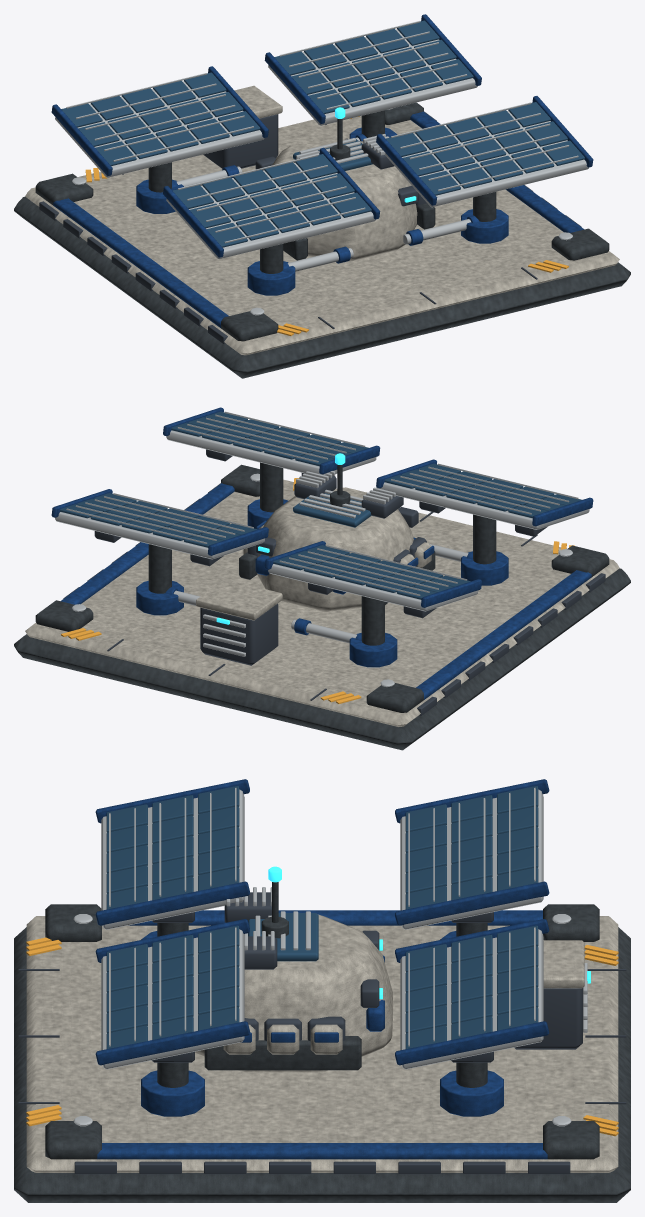
The model's file is solis_centrale_solaire.gltf.
3 views of the same model, one above another, from view 1: azimuth 30°, elevation 25°; view 2: azimuth 150°, elevation 25°; view 3: azimuth 270°, elevation 25° (orthographic). The views are drawn at different scales.
Visible parts, largest first — view 1: Building.001_Geometry, SolarPanel_-1.05_0.95_Geometry, SolarPanel_-1.05_-0.95_Geometry, SolarPanel_1.05_-0.95_Geometry, SolarPanel_1.05_0.95_Geometry; view 2: Building.001_Geometry, SolarPanel_1.05_0.95_Geometry, SolarPanel_-1.05_0.95_Geometry, SolarPanel_-1.05_-0.95_Geometry, SolarPanel_1.05_-0.95_Geometry; view 3: Building.001_Geometry, SolarPanel_1.05_0.95_Geometry, SolarPanel_1.05_-0.95_Geometry, SolarPanel_-1.05_0.95_Geometry, SolarPanel_-1.05_-0.95_Geometry.
Part boxes in pixels (<box>): Building.001_Geometry: <box>14,85,630,378</box>; SolarPanel_-1.05_0.95_Geometry: <box>51,66,268,177</box>; SolarPanel_-1.05_-0.95_Geometry: <box>163,147,380,259</box>; SolarPanel_1.05_-0.95_Geometry: <box>376,96,593,207</box>; SolarPanel_1.05_0.95_Geometry: <box>264,14,481,125</box>; Building.001_Geometry: <box>14,453,630,750</box>; SolarPanel_1.05_0.95_Geometry: <box>51,489,268,566</box>; SolarPanel_-1.05_0.95_Geometry: <box>264,541,481,618</box>; SolarPanel_-1.05_-0.95_Geometry: <box>376,459,593,536</box>; SolarPanel_1.05_-0.95_Geometry: <box>163,407,380,476</box>; Building.001_Geometry: <box>14,866,630,1202</box>; SolarPanel_1.05_0.95_Geometry: <box>395,919,549,1069</box>; SolarPanel_1.05_-0.95_Geometry: <box>95,919,249,1069</box>; SolarPanel_-1.05_0.95_Geometry: <box>395,779,549,929</box>; SolarPanel_-1.05_-0.95_Geometry: <box>95,779,249,929</box>.
Size of the model in its own units: 3.92 by 1.47 by 3.92.
Materials: 8 (3 with a texture image).
